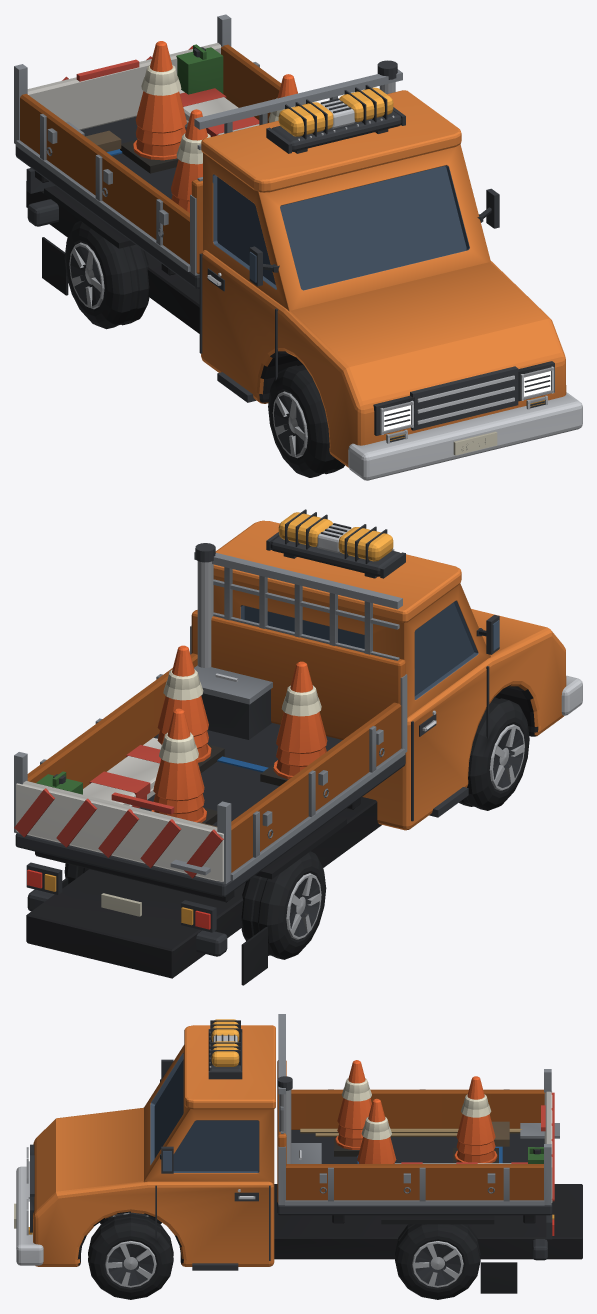
Rendered from works-truck-near.glb.
The picture shows the model from 3 angles, top to bottom: view 1: azimuth 30°, elevation 25°; view 2: azimuth 150°, elevation 25°; view 3: azimuth 270°, elevation 25°; orthographic projection. The views are drawn at different scales.
Visible parts, largest first — view 1: WorksTruck; view 2: WorksTruck; view 3: WorksTruck.
Boxes of the visible parts, left/top/right/bottom form: WorksTruck: left=14, top=14, right=582, bottom=480; WorksTruck: left=14, top=509, right=582, bottom=985; WorksTruck: left=14, top=1014, right=582, bottom=1299.
Size of the model in its own units: 1.39 by 1.64 by 3.73.
